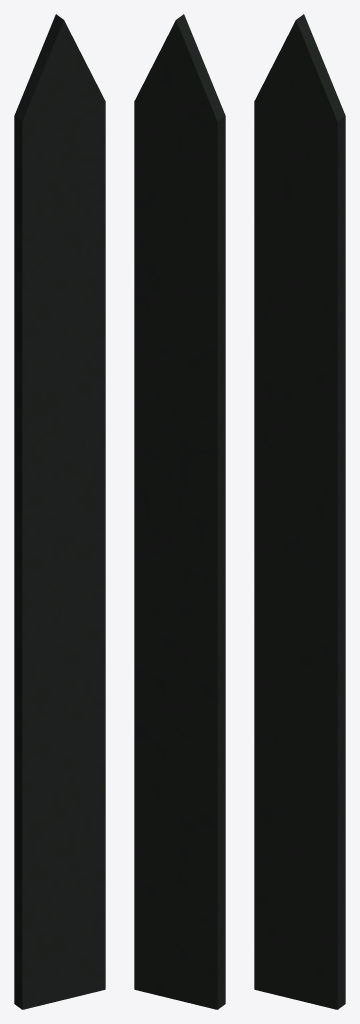
Rendered from clock-minute.fbx.
The picture shows the model from 3 angles, left to right: view 1: azimuth 30°, elevation 25°; view 2: azimuth 150°, elevation 25°; view 3: azimuth 330°, elevation 25°; orthographic projection.
Visible parts, largest first — view 1: clock-minute; view 2: clock-minute; view 3: clock-minute.
Part boxes in pixels (left/top/right/bottom): clock-minute: left=14, top=14, right=105, bottom=1009; clock-minute: left=134, top=14, right=225, bottom=1009; clock-minute: left=254, top=14, right=345, bottom=1009.
Size of the model in its own units: 190 by 2140 by 32.
1 material, 1 textured.
